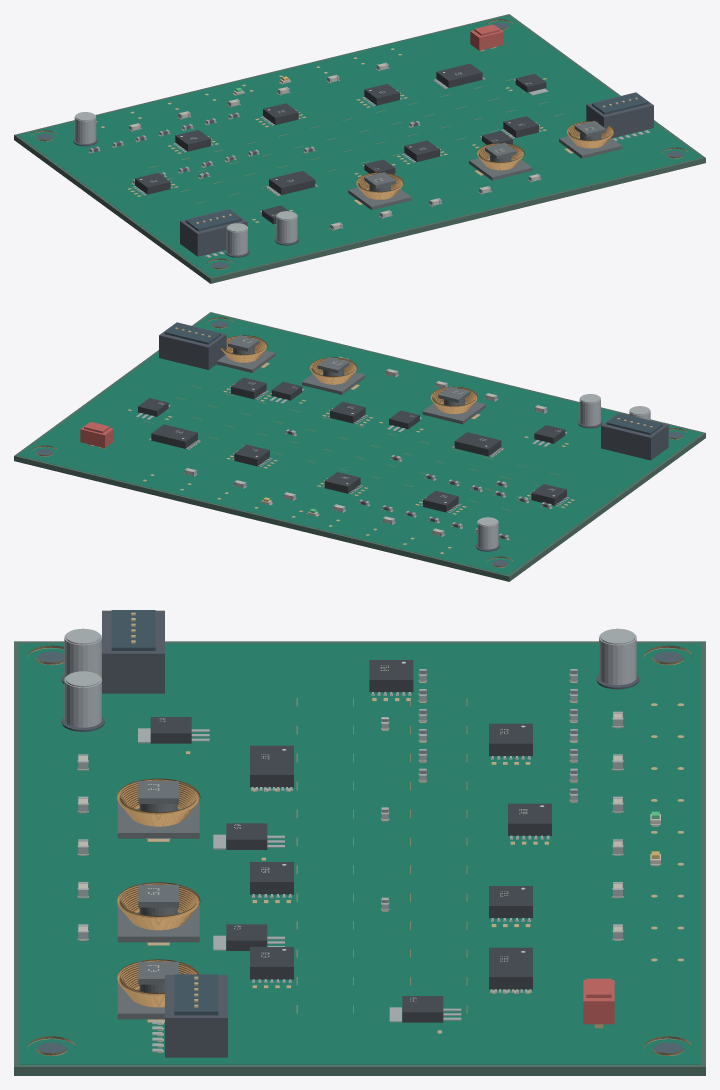
The model's file is L97_COMPLETE_ASSEMBLED_VISUAL_REFERENCE_ONLY.glb.
The picture shows the model from 3 angles, top to bottom: view 1: azimuth 30°, elevation 25°; view 2: azimuth 150°, elevation 25°; view 3: azimuth 270°, elevation 25°; orthographic projection. The views are drawn at different scales.
Visible parts, largest first — view 1: 00_L97_VGR5_Empty_PCB_160x110mm_top_soldermask_1, 00_L97_VGR5_Empty_PCB_160x110mm_FR4_core_0, 47_L97_J2_Connector_J2_shell_1018, 46_L97_J1_Connector_J1_shell_1004, 08_L97_U8_IC_U8_molded_body_598, 01_L97_U1_IC_U1_molded_body_237, 47_L97_J2_Connector_J2_opening_1019, 46_L97_J1_Connector_J1_opening_1005, 13_L97_L1_Inductor_L1_base_759, 14_L97_L2_Inductor_L2_base_791, 15_L97_L3_Inductor_L3_base_825, 03_L97_U3_IC_U3_molded_body_349 (+9 smaller); view 2: 00_L97_VGR5_Empty_PCB_160x110mm_top_soldermask_1, 00_L97_VGR5_Empty_PCB_160x110mm_FR4_core_0, 46_L97_J1_Connector_J1_shell_1004, 47_L97_J2_Connector_J2_shell_1018, 01_L97_U1_IC_U1_molded_body_237, 08_L97_U8_IC_U8_molded_body_598, 46_L97_J1_Connector_J1_opening_1005, 47_L97_J2_Connector_J2_opening_1019, 14_L97_L2_Inductor_L2_base_791, 13_L97_L1_Inductor_L1_base_759, 15_L97_L3_Inductor_L3_base_825, 06_L97_U6_IC_U6_molded_body_498 (+8 smaller); view 3: 00_L97_VGR5_Empty_PCB_160x110mm_top_soldermask_1, 00_L97_VGR5_Empty_PCB_160x110mm_FR4_core_0, 46_L97_J1_Connector_J1_shell_1004, 47_L97_J2_Connector_J2_shell_1018, 08_L97_U8_IC_U8_molded_body_598, 01_L97_U1_IC_U1_molded_body_237, 47_L97_J2_Connector_J2_opening_1019, 46_L97_J1_Connector_J1_opening_1005, 14_L97_L2_Inductor_L2_base_791, 13_L97_L1_Inductor_L1_base_759, 36_L97_C8_Capacitor_C8_aluminum_can_953, 30_L97_C2_Capacitor_C2_aluminum_can_925 (+17 smaller).
Part boxes in pixels (x1,y1,x2,y2): 00_L97_VGR5_Empty_PCB_160x110mm_top_soldermask_1: [18, 15, 701, 277]; 00_L97_VGR5_Empty_PCB_160x110mm_FR4_core_0: [14, 14, 705, 283]; 47_L97_J2_Connector_J2_shell_1018: [586, 92, 653, 138]; 46_L97_J1_Connector_J1_shell_1004: [180, 209, 247, 256]; 08_L97_U8_IC_U8_molded_body_598: [436, 63, 482, 87]; 01_L97_U1_IC_U1_molded_body_237: [269, 170, 315, 195]; 47_L97_J2_Connector_J2_opening_1019: [592, 93, 648, 114]; 46_L97_J1_Connector_J1_opening_1005: [185, 209, 241, 231]; 13_L97_L1_Inductor_L1_base_759: [348, 187, 411, 209]; 14_L97_L2_Inductor_L2_base_791: [469, 158, 532, 180]; 15_L97_L3_Inductor_L3_base_825: [559, 136, 622, 158]; 03_L97_U3_IC_U3_molded_body_349: [503, 116, 538, 137]; 00_L97_VGR5_Empty_PCB_160x110mm_top_soldermask_1: [18, 313, 701, 575]; 00_L97_VGR5_Empty_PCB_160x110mm_FR4_core_0: [14, 312, 705, 581]; 46_L97_J1_Connector_J1_shell_1004: [601, 412, 668, 460]; 47_L97_J2_Connector_J2_shell_1018: [159, 322, 226, 369]; 01_L97_U1_IC_U1_molded_body_237: [454, 432, 501, 456]; 08_L97_U8_IC_U8_molded_body_598: [151, 424, 197, 448]; 46_L97_J1_Connector_J1_opening_1005: [606, 413, 662, 434]; 47_L97_J2_Connector_J2_opening_1019: [164, 323, 220, 344]; 14_L97_L2_Inductor_L2_base_791: [302, 372, 365, 394]; 13_L97_L1_Inductor_L1_base_759: [422, 402, 485, 424]; 15_L97_L3_Inductor_L3_base_825: [217, 350, 275, 372]; 06_L97_U6_IC_U6_molded_body_498: [324, 472, 360, 493]; 00_L97_VGR5_Empty_PCB_160x110mm_top_soldermask_1: [18, 643, 701, 1064]; 00_L97_VGR5_Empty_PCB_160x110mm_FR4_core_0: [14, 641, 705, 1075]; 46_L97_J1_Connector_J1_shell_1004: [102, 610, 164, 693]; 47_L97_J2_Connector_J2_shell_1018: [165, 975, 227, 1057]; 08_L97_U8_IC_U8_molded_body_598: [489, 947, 532, 989]; 01_L97_U1_IC_U1_molded_body_237: [250, 745, 293, 787]; 47_L97_J2_Connector_J2_opening_1019: [174, 974, 218, 1015]; 46_L97_J1_Connector_J1_opening_1005: [111, 610, 155, 650]; 14_L97_L2_Inductor_L2_base_791: [117, 905, 199, 942]; 13_L97_L1_Inductor_L1_base_759: [117, 801, 199, 838]; 36_L97_C8_Capacitor_C8_aluminum_can_953: [599, 633, 636, 685]; 30_L97_C2_Capacitor_C2_aluminum_can_925: [64, 676, 101, 727].
Size of the model in its own units: 0.16 by 0.00971 by 0.11.
